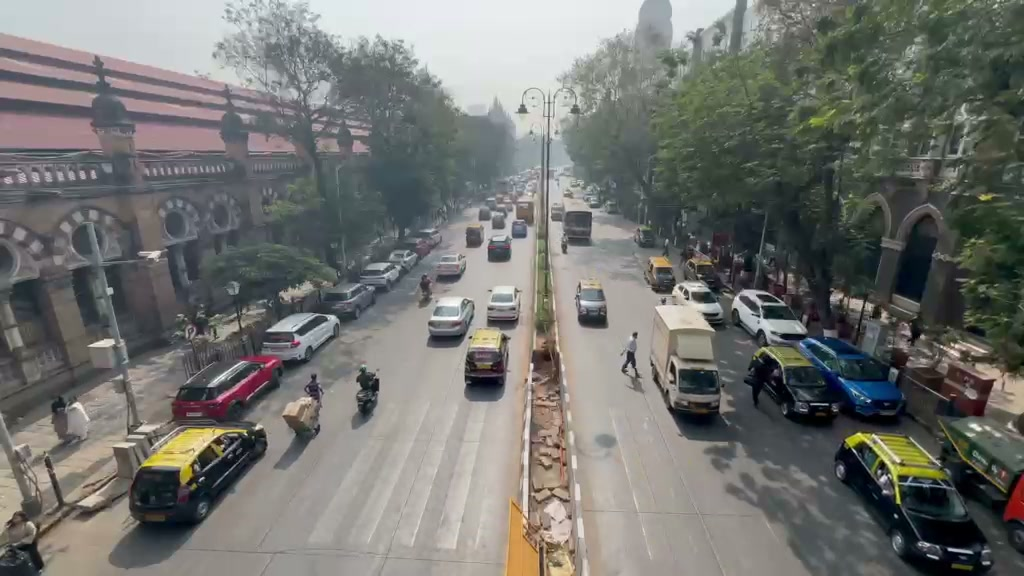bus: (562, 207, 593, 250)
car: (832, 430, 996, 573), (128, 423, 268, 525), (797, 336, 907, 423), (744, 343, 841, 424), (170, 355, 283, 423), (260, 311, 340, 366), (731, 289, 809, 344), (671, 280, 726, 328), (317, 281, 377, 322), (463, 335, 506, 387), (426, 298, 475, 342), (485, 285, 521, 326), (576, 284, 608, 327), (359, 261, 402, 292), (432, 251, 467, 282), (487, 230, 512, 263), (387, 248, 418, 269), (512, 219, 528, 239)
motorcycle: (281, 395, 322, 439)
pedestrian: (3, 510, 45, 572), (621, 331, 640, 373), (304, 374, 323, 404)
truck: (833, 430, 995, 572), (937, 414, 1023, 520), (649, 303, 724, 418), (562, 208, 593, 249), (645, 255, 678, 293)
